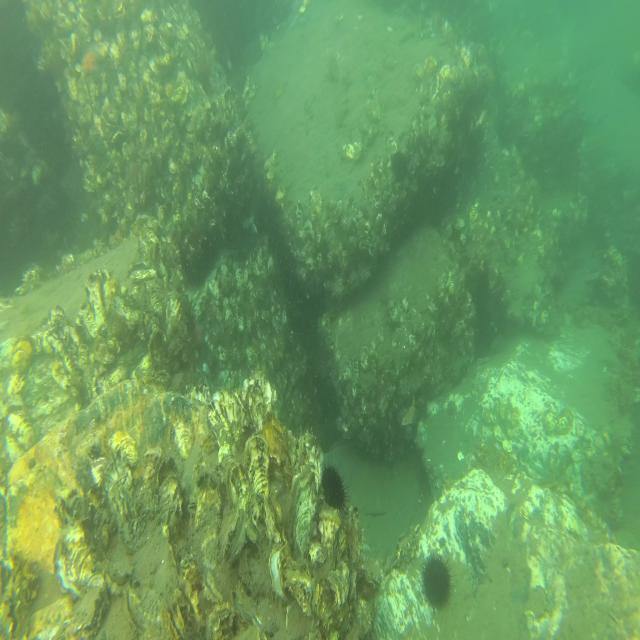echinus: (422, 554, 452, 612), (321, 462, 348, 513), (391, 151, 410, 181), (552, 275, 564, 299)
